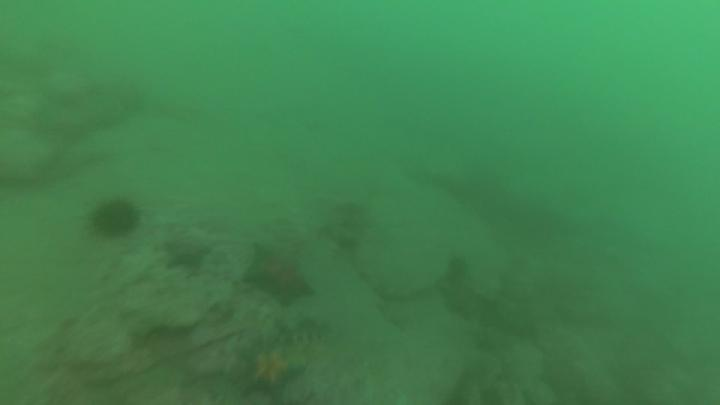echinus: (85, 195, 145, 240), (447, 255, 474, 288)
holothurian: (235, 340, 307, 405), (277, 330, 344, 367)
starfish: (244, 244, 319, 313), (436, 281, 488, 328), (159, 236, 214, 274)
